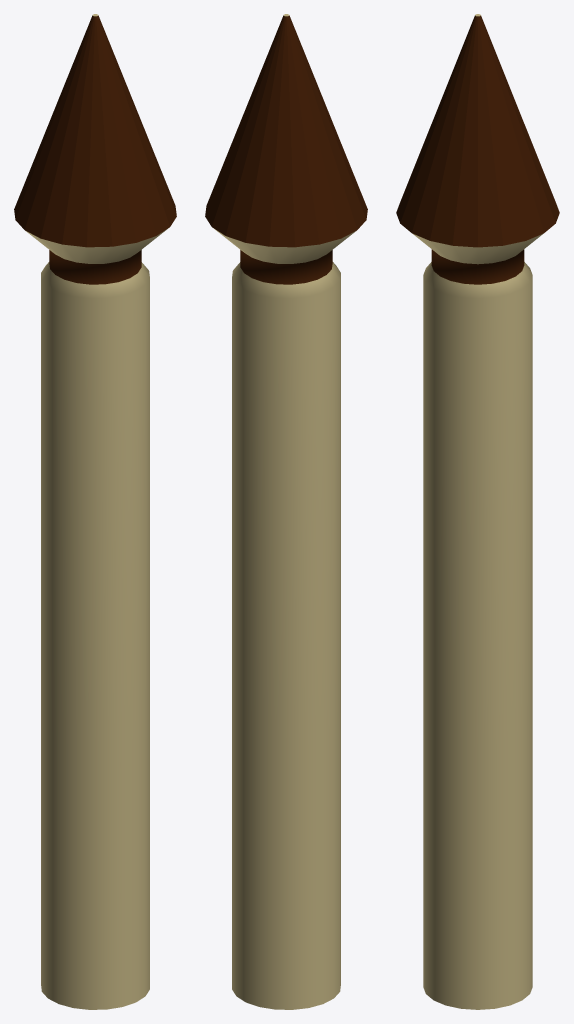
Rendered from sagrera3.fbx.
3 views of the same model, side by side, from view 1: azimuth 30°, elevation 25°; view 2: azimuth 150°, elevation 25°; view 3: azimuth 270°, elevation 25° (orthographic).
Visible parts, largest first — view 1: pCylinder15; view 2: pCylinder15; view 3: pCylinder15.
Part boxes in pixels (x1,y1,x2,y2): pCylinder15: (14, 14, 176, 1009); pCylinder15: (205, 14, 367, 1009); pCylinder15: (396, 14, 559, 1009).
Bounding box in the file's own units: 4.34 × 28.4 × 4.34.
